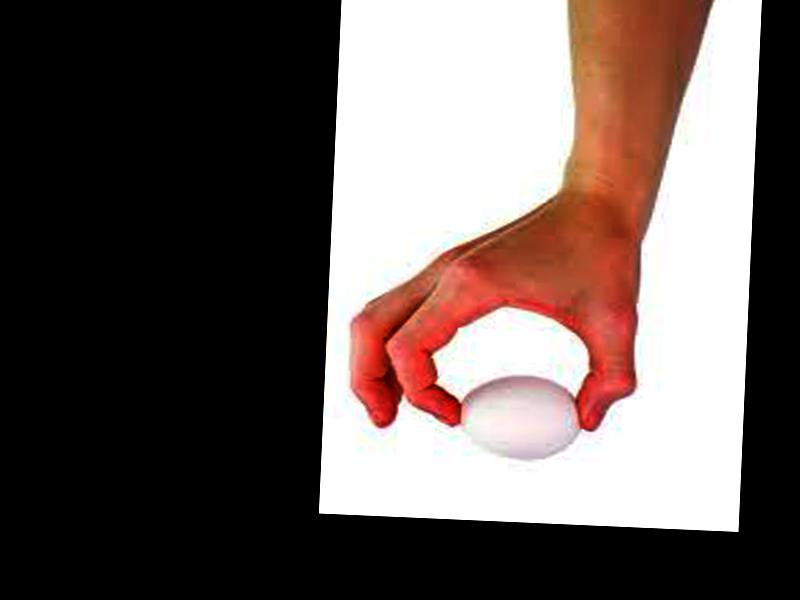Eggs: (457, 373, 582, 462)
